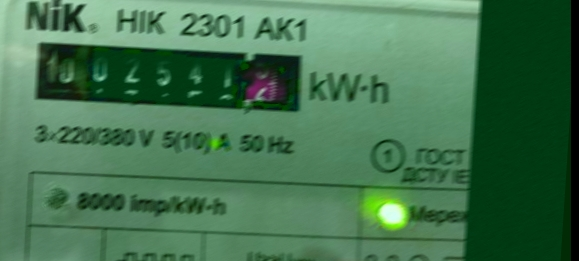0: (89, 50, 110, 84), (58, 54, 77, 84)
1: (217, 56, 235, 90)
2: (120, 51, 143, 87)
4: (186, 55, 205, 87)
5: (154, 56, 172, 89)
6: (251, 82, 269, 104)
screen: (19, 23, 324, 132)
